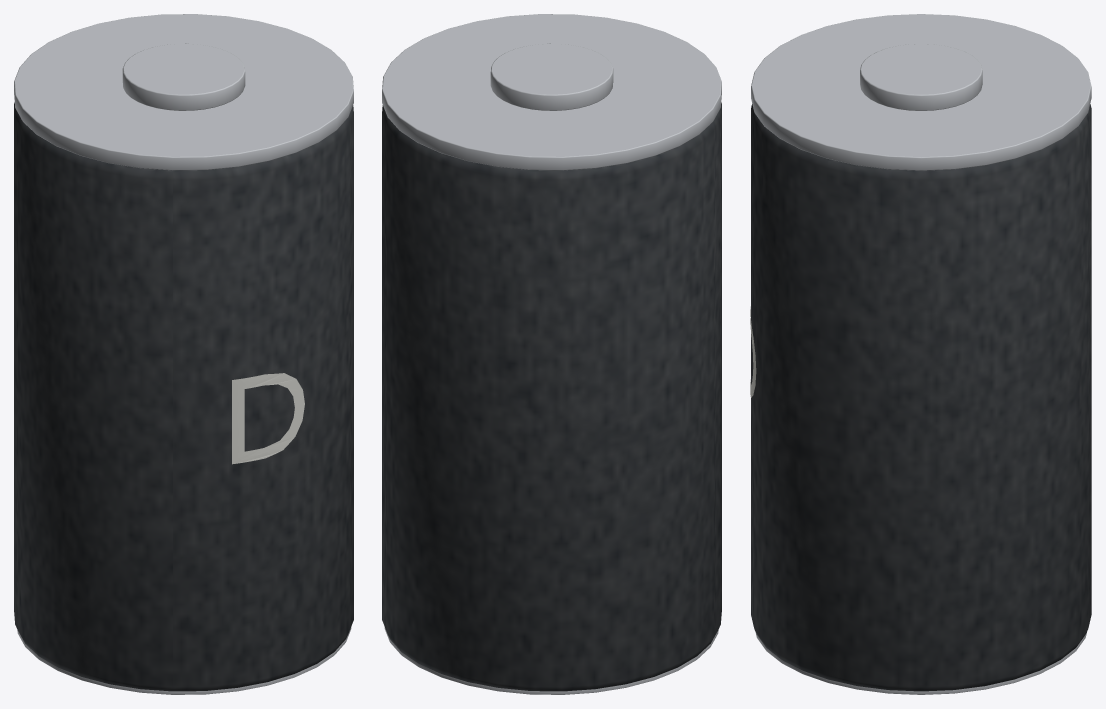
Rendered from BatteryD-v1.fbx.
3 renders of one model, left to right at view 1: azimuth 30°, elevation 25°; view 2: azimuth 150°, elevation 25°; view 3: azimuth 270°, elevation 25°, orthographic.
Visible parts, largest first — view 1: PW_BatteryD; view 2: PW_BatteryD; view 3: PW_BatteryD.
Boxes of the visible parts, x1,y1,x2,y2 form: PW_BatteryD: (14,14,353,694); PW_BatteryD: (382,14,721,694); PW_BatteryD: (750,14,1091,694).
Bounding box in the file's own units: 3.42 × 6.15 × 3.43.
1 material, 1 textured.
